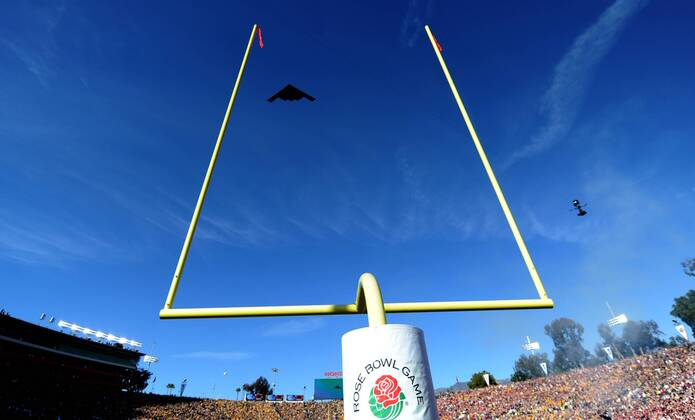B2: (266, 83, 317, 103)
